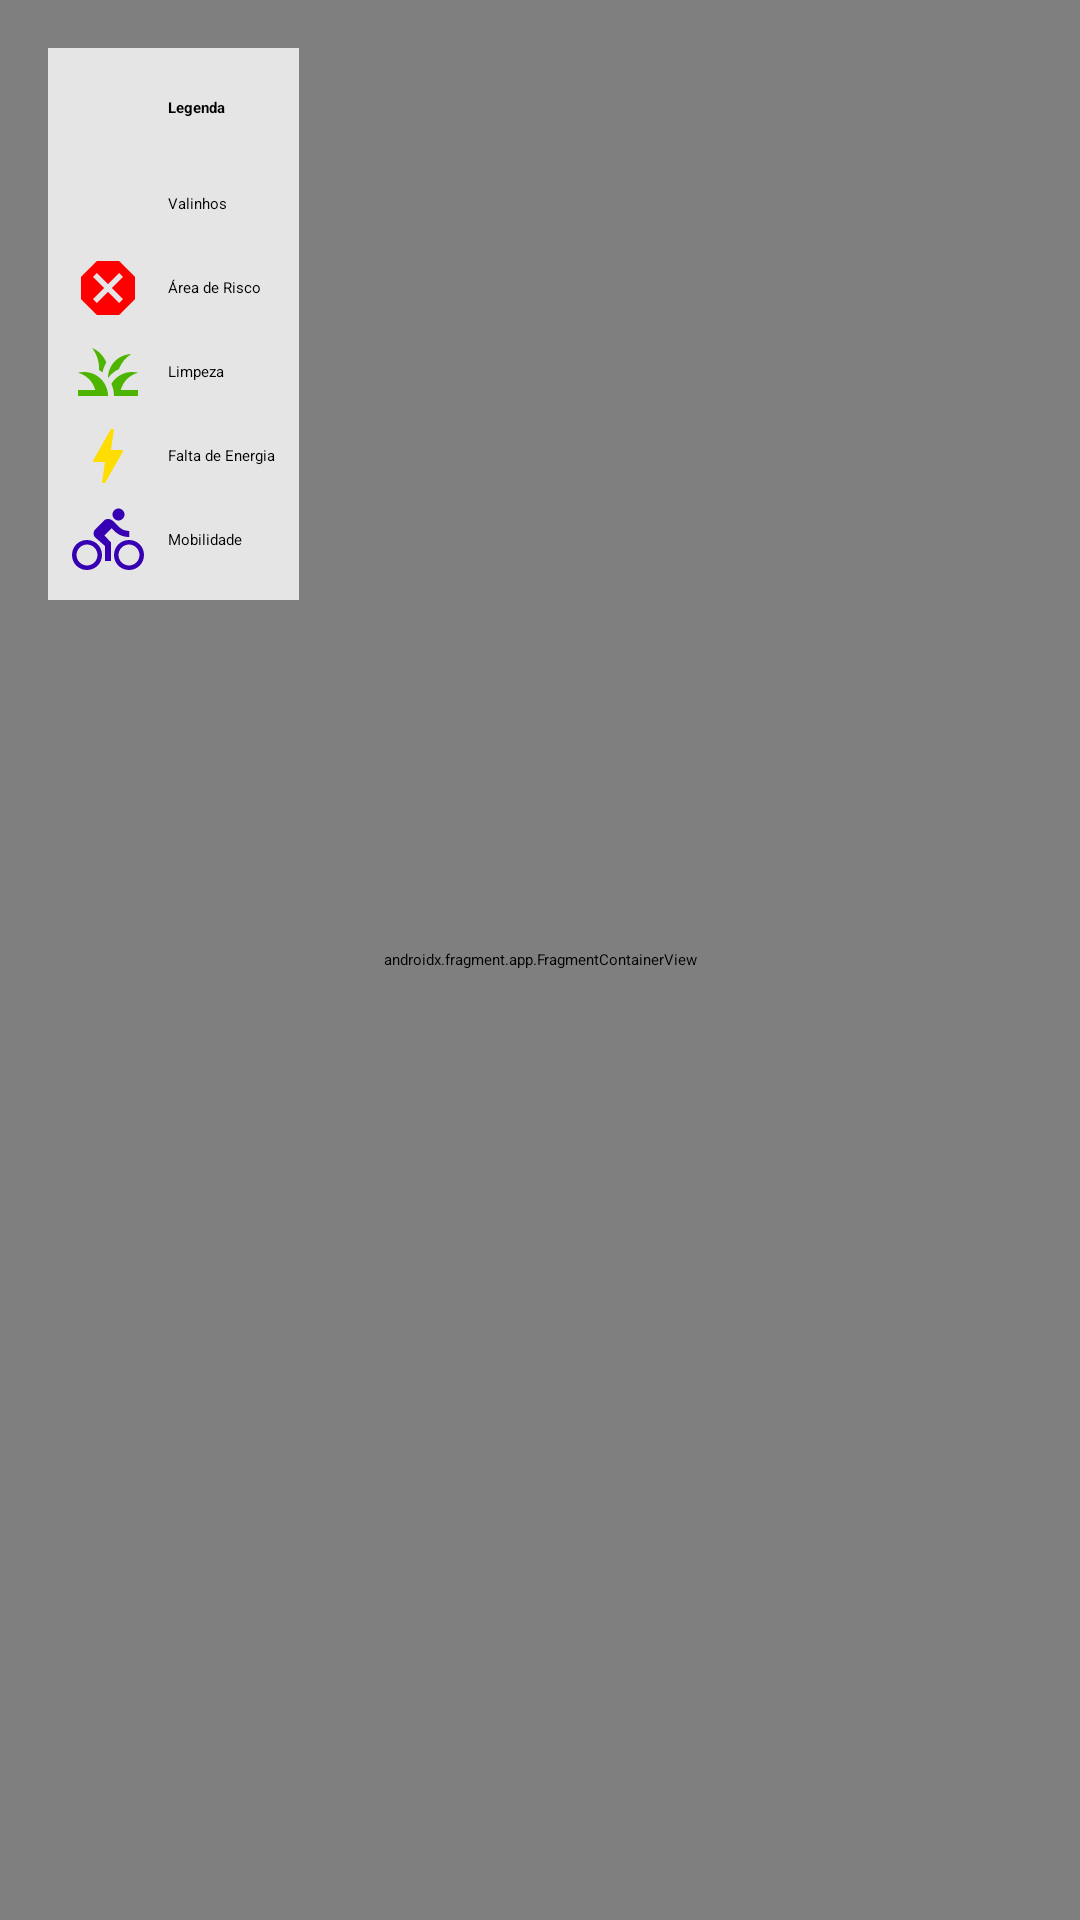

Where icons sit on this 1080w x 1920h app screen, as (x1, y1, x2, y2):
bolt: (93, 429, 123, 483)
dangerous: (81, 261, 135, 315)
directions bike: (72, 508, 144, 570)
grass: (78, 348, 138, 396)
